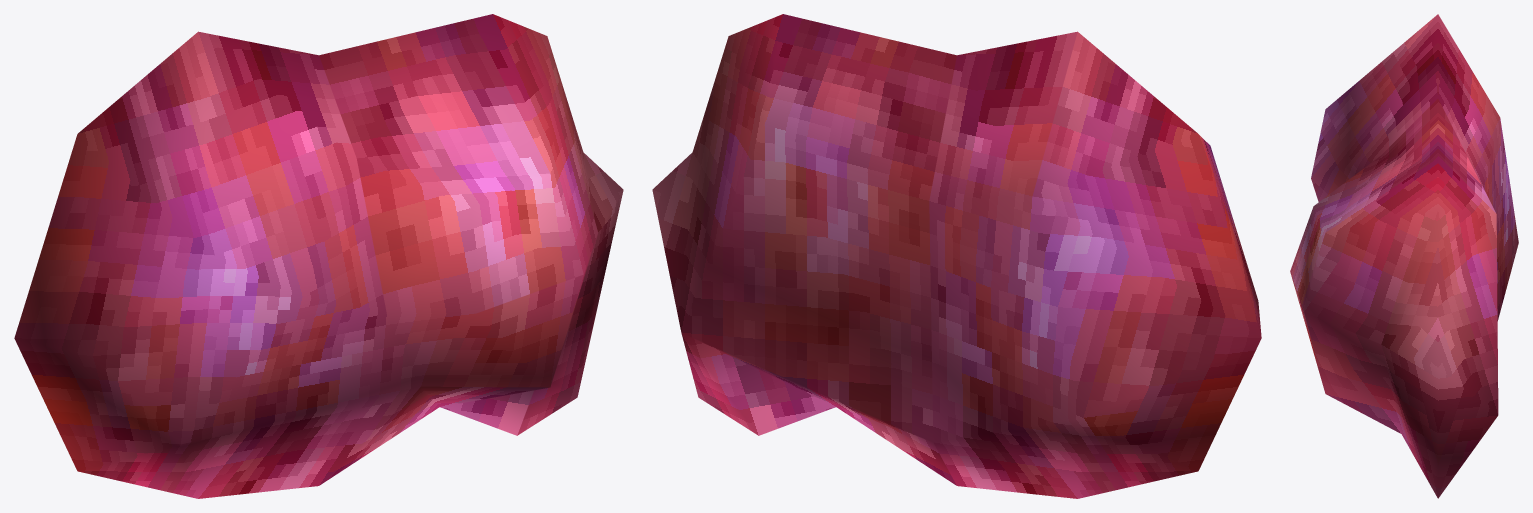
The model's file is balinade_meat.obj.
The picture shows the model from 3 angles, left to right: view 1: azimuth 30°, elevation 25°; view 2: azimuth 150°, elevation 25°; view 3: azimuth 270°, elevation 25°; orthographic projection. The views are drawn at different scales.
Visible parts, largest first — view 1: nodes_3__meshes[0]; view 2: nodes_3__meshes[0]; view 3: nodes_3__meshes[0].
Boxes of the visible parts, x1,y1,x2,y2 form: nodes_3__meshes[0]: (14, 14, 623, 498); nodes_3__meshes[0]: (652, 14, 1261, 498); nodes_3__meshes[0]: (1290, 14, 1518, 498).
Bounding box in the file's own units: 560 × 425 × 242.
Materials: 1 (1 with a texture image).
